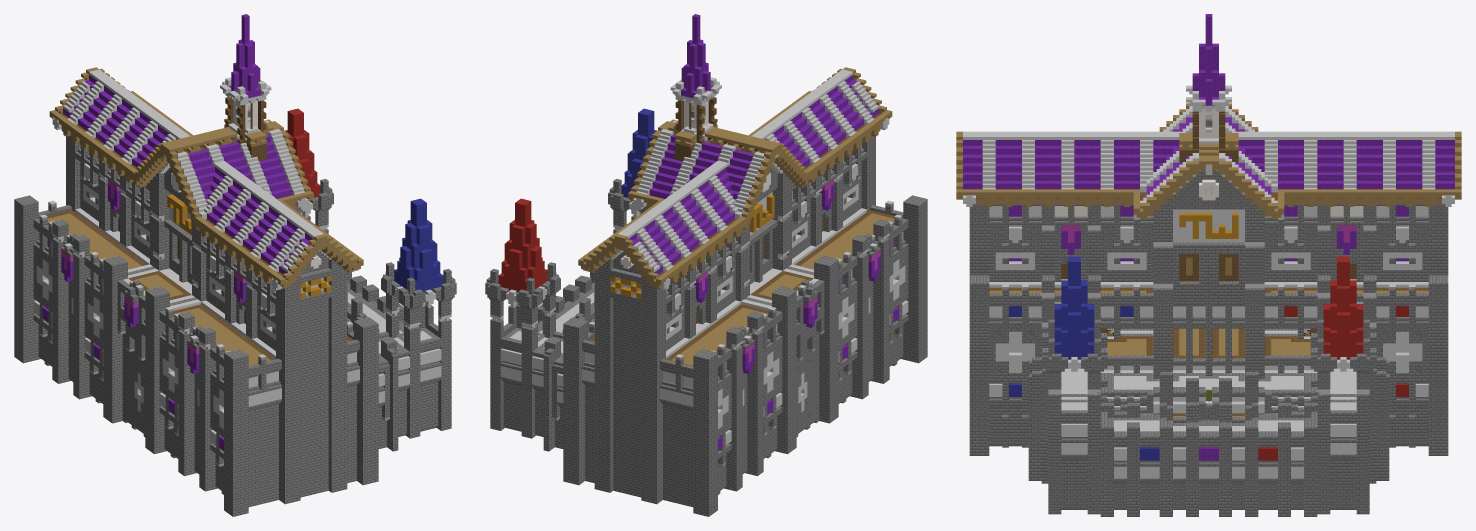
File: minecraft.obj
3 views of the same model, side by side, from view 1: azimuth 30°, elevation 25°; view 2: azimuth 150°, elevation 25°; view 3: azimuth 270°, elevation 25° (orthographic). The views are drawn at different scales.
Bounding box in the file's own units: 50 × 72 × 77.
